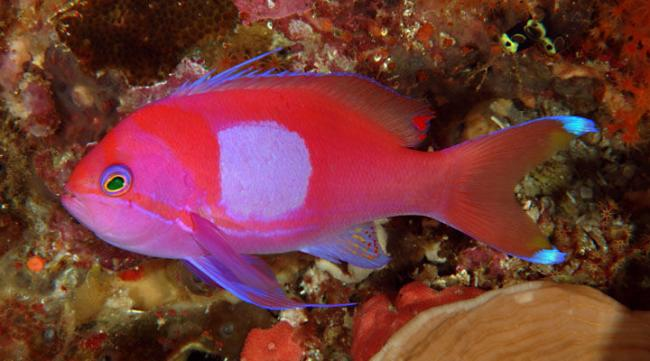fish: (60, 47, 599, 311)
